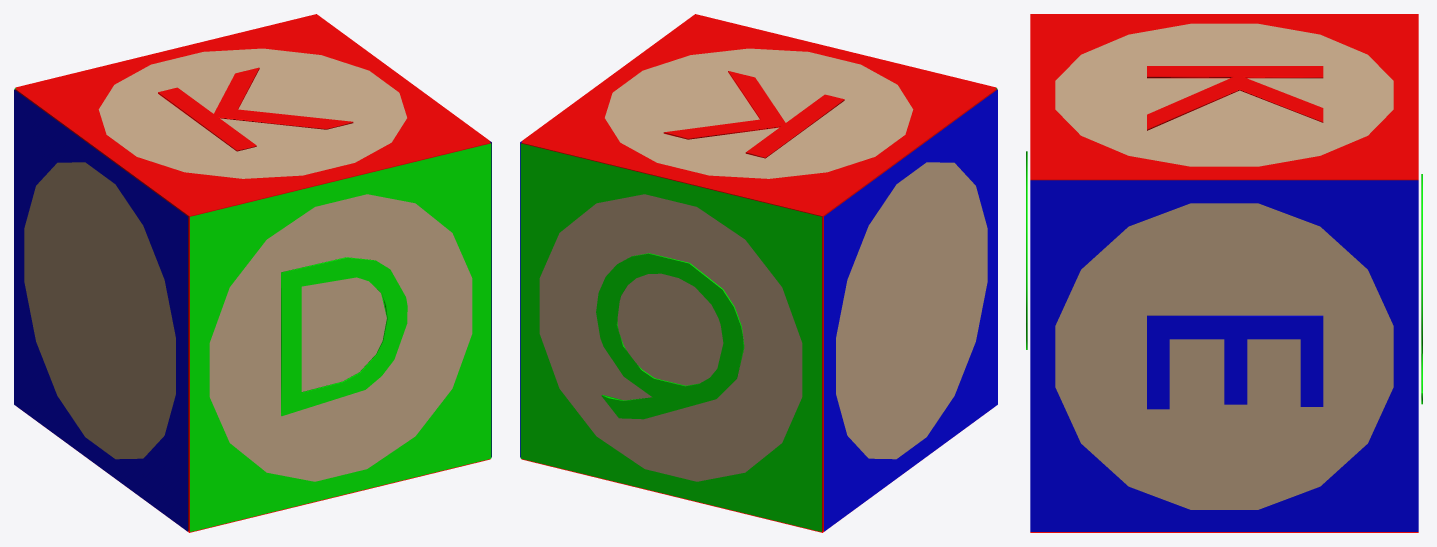
3 renders of one model, left to right at view 1: azimuth 30°, elevation 25°; view 2: azimuth 150°, elevation 25°; view 3: azimuth 270°, elevation 25°, orthographic. The views are drawn at different scales.
Visible parts, largest first — view 1: cube; view 2: cube; view 3: cube.
Part boxes in pixels (x1,y1,x2,y2): cube: (14, 14, 491, 532); cube: (520, 14, 997, 532); cube: (1026, 14, 1422, 532).
Bounding box in the file's own units: 0.0458 × 0.046 × 0.046.
